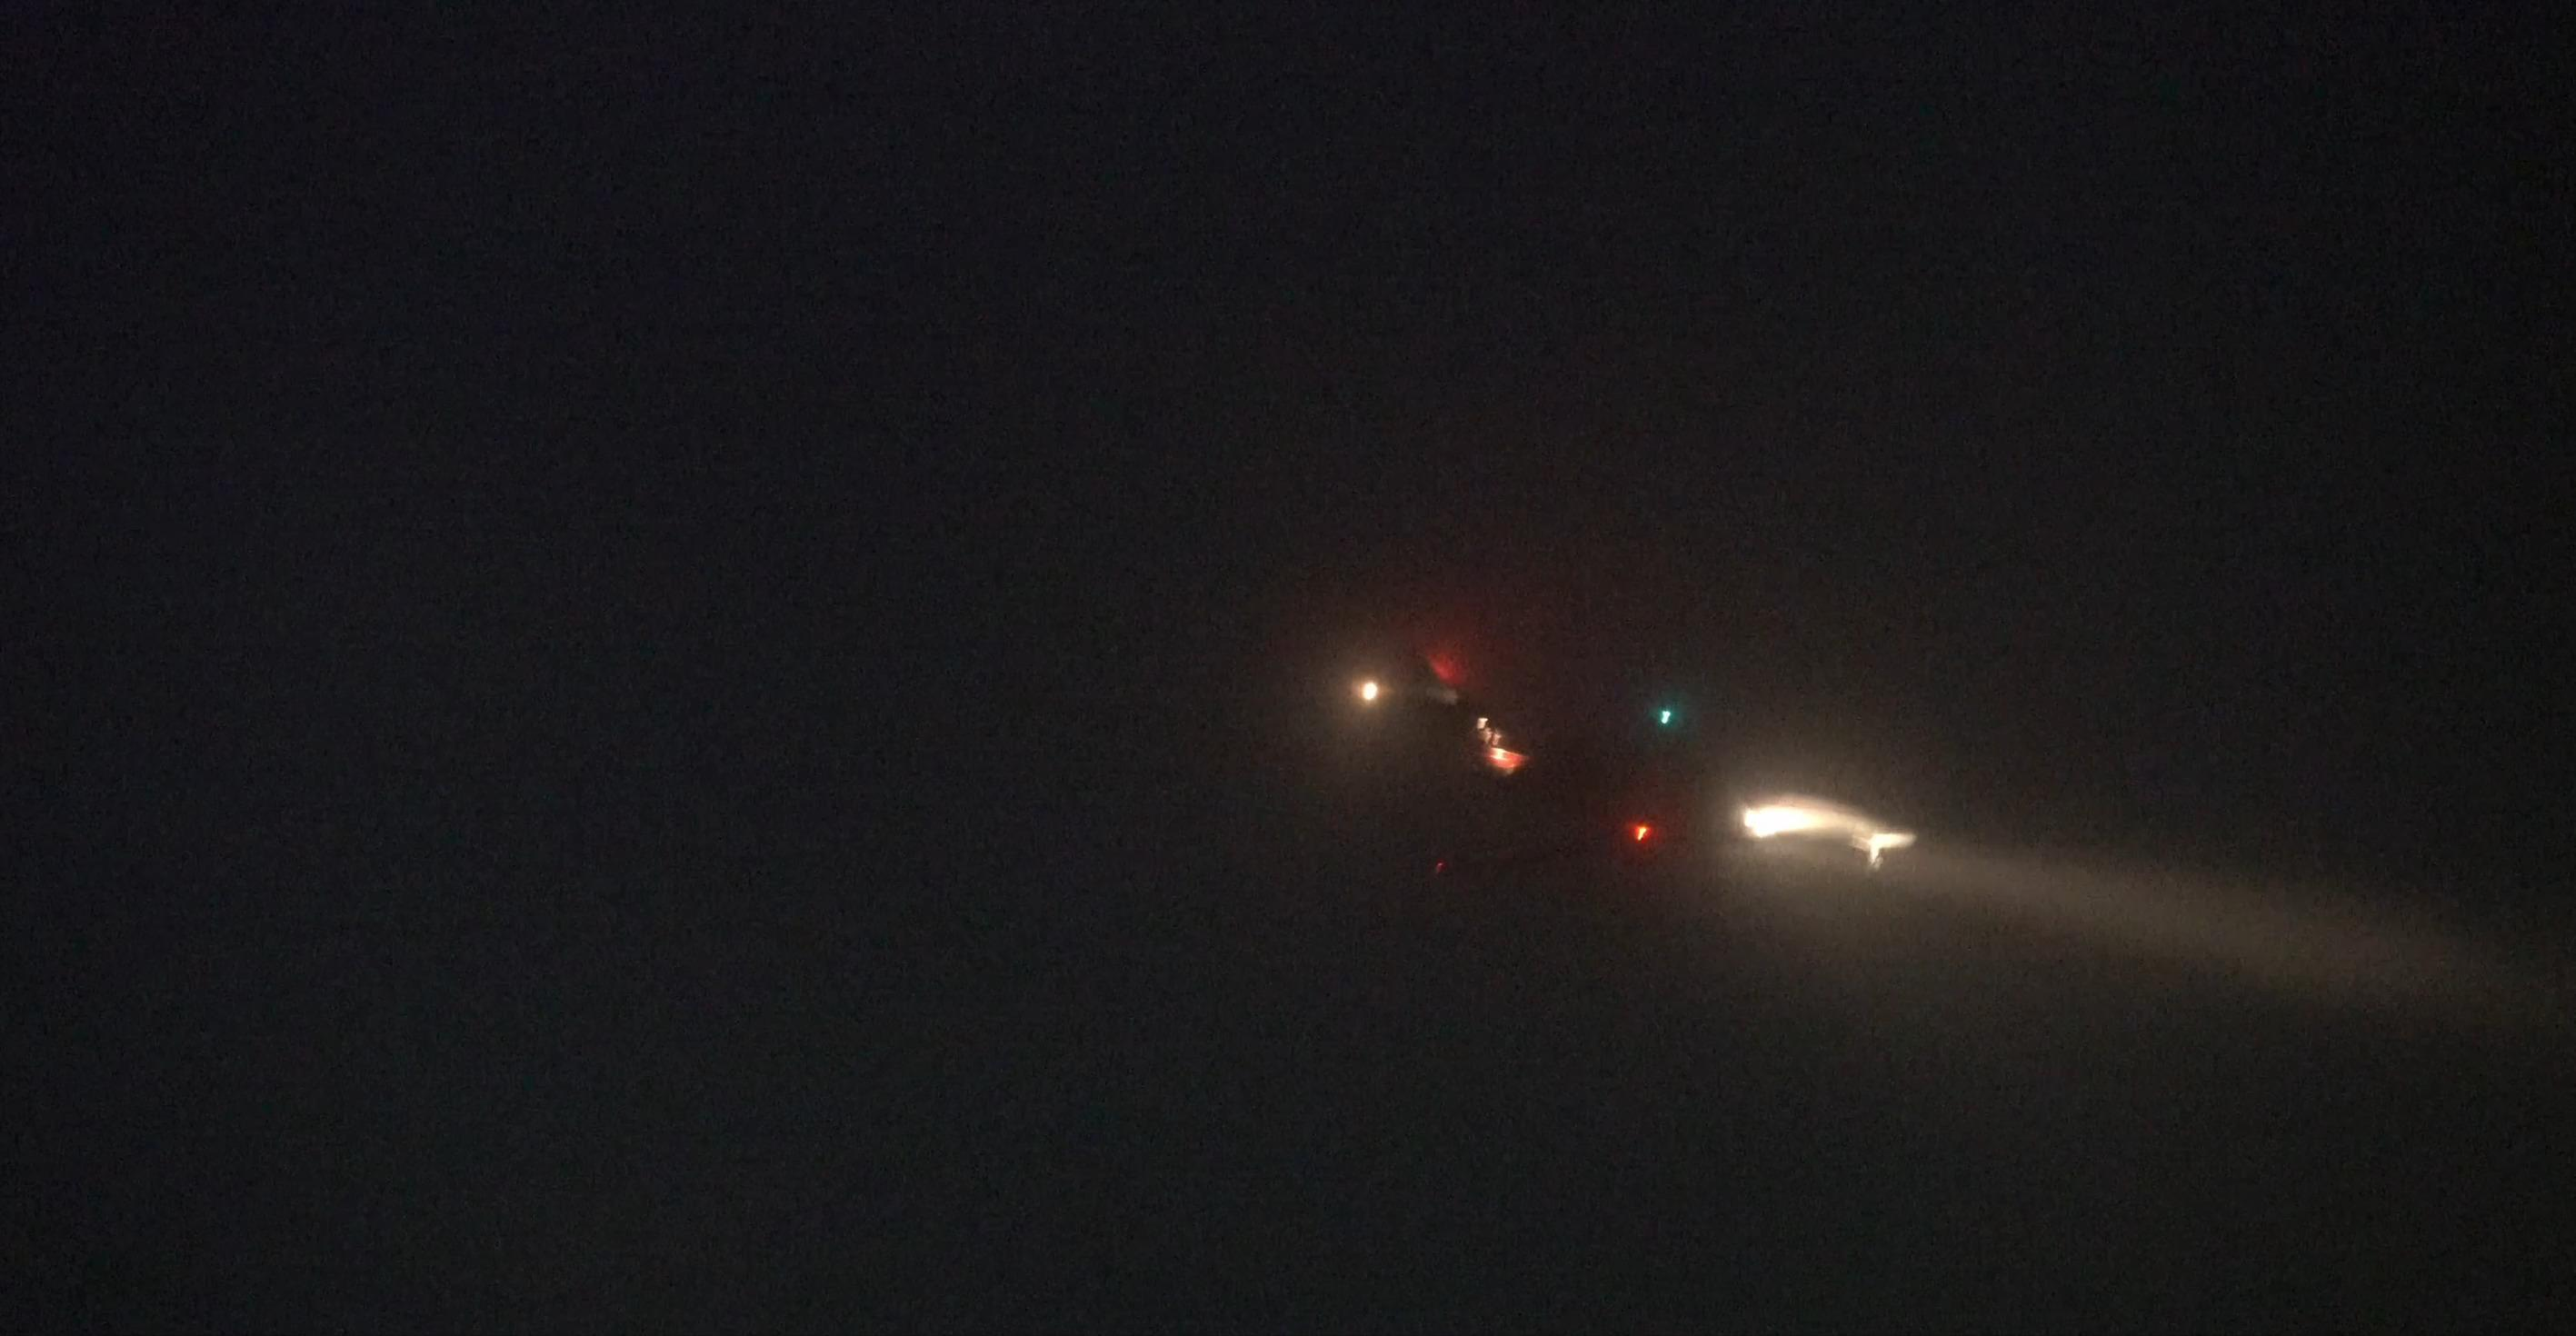Plane: (1419, 636, 1935, 884)
